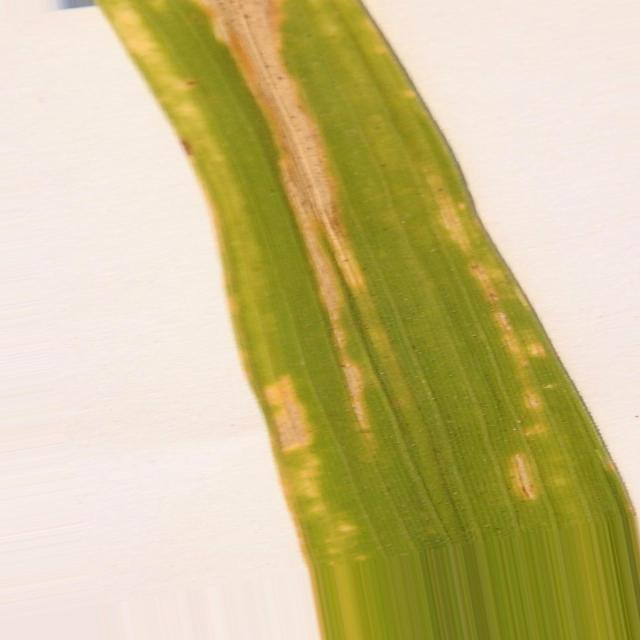Bacterial_Leaf_Blight: (204, 0, 378, 462), (435, 190, 569, 500), (259, 370, 382, 565), (162, 78, 255, 236), (102, 0, 161, 81), (162, 44, 171, 91)
